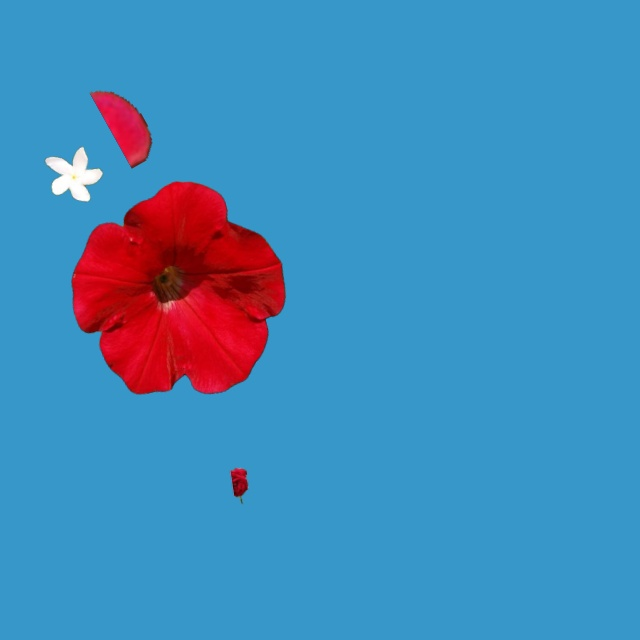jasmine: (45, 147, 102, 201)
petunia: (72, 181, 285, 393), (90, 91, 151, 167)
rose: (230, 468, 247, 503)
